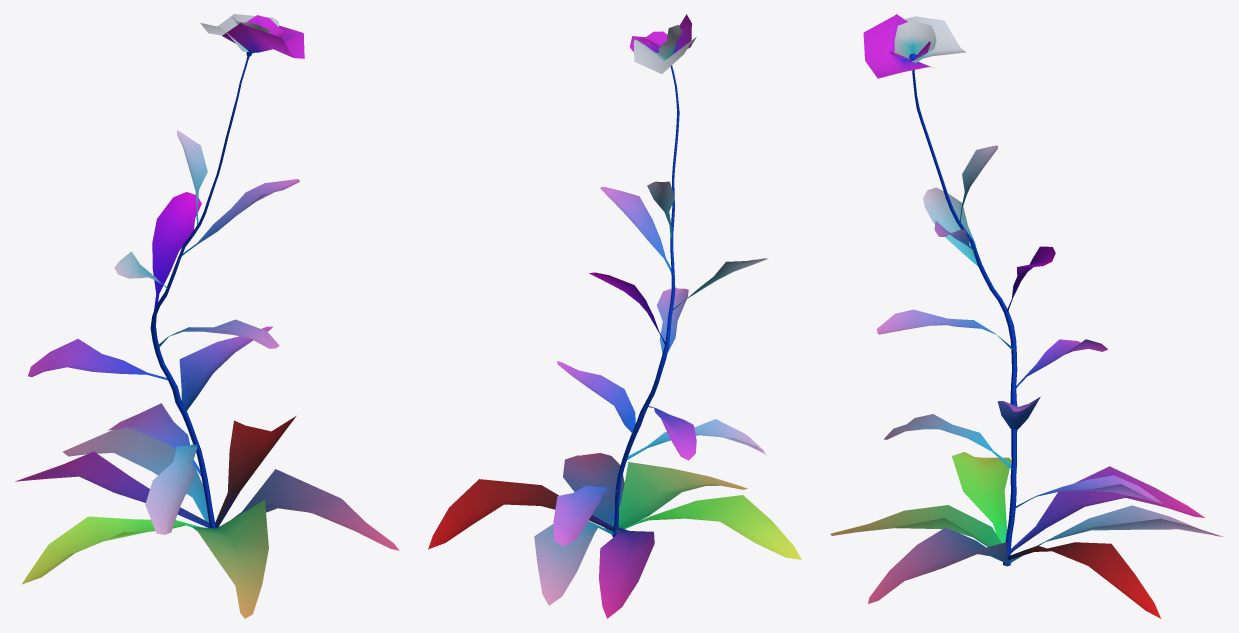
The model's file is Field_Poppy_vmcobd0ja_Mid_vmcobd0ja_VarH_LOD0.fbx.
The picture shows the model from 3 angles, left to right: view 1: azimuth 30°, elevation 25°; view 2: azimuth 150°, elevation 25°; view 3: azimuth 270°, elevation 25°; orthographic projection. The views are drawn at different scales.
Parts seen in each view (by area): view 1: _jeq2_VarH_LOD1; view 2: _jeq2_VarH_LOD1; view 3: _jeq2_VarH_LOD1.
Boxes of the visible parts, bbox=[...] form: _jeq2_VarH_LOD1: bbox=[15, 14, 399, 618]; _jeq2_VarH_LOD1: bbox=[428, 14, 801, 618]; _jeq2_VarH_LOD1: bbox=[830, 14, 1223, 618].
Size of the model in its own units: 42.1 by 65.87 by 43.83.
